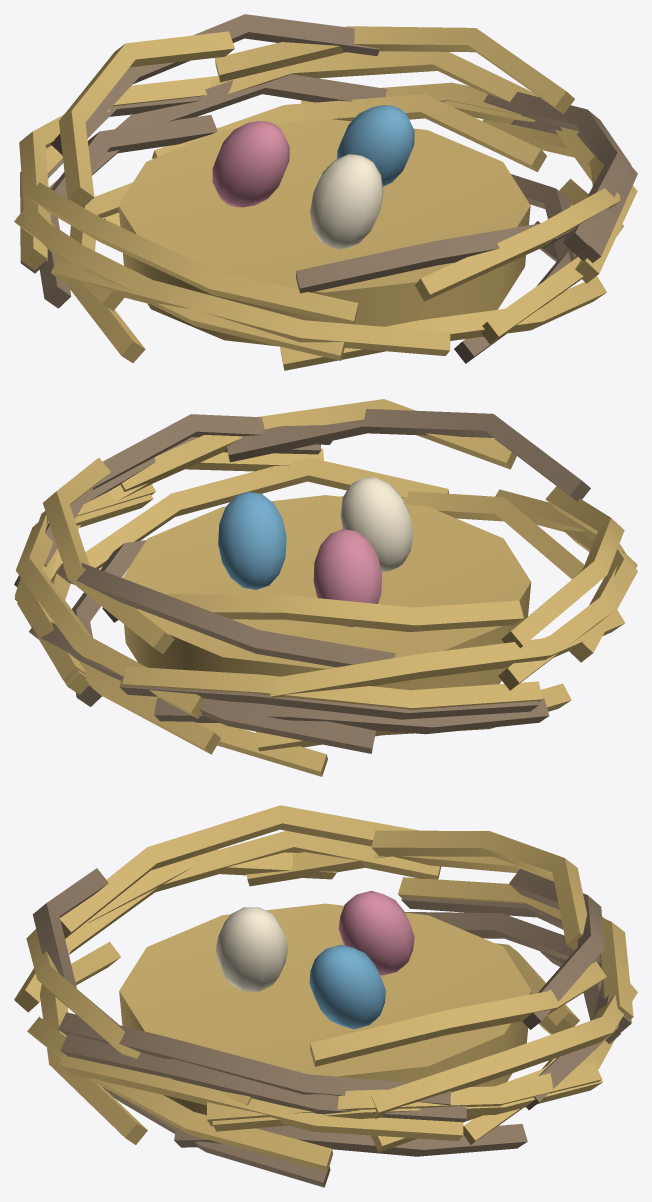
The model's file is deco_critter_nest.fbx.
The picture shows the model from 3 angles, top to bottom: view 1: azimuth 30°, elevation 25°; view 2: azimuth 150°, elevation 25°; view 3: azimuth 270°, elevation 25°; orthographic projection.
Parts seen in each view (by area): view 1: CritterNest_Nest; view 2: CritterNest_Nest; view 3: CritterNest_Nest.
Part boxes in pixels (<box>): CritterNest_Nest: <box>14,14,637,370</box>; CritterNest_Nest: <box>14,399,637,776</box>; CritterNest_Nest: <box>14,805,637,1187</box>.
Bounding box in the file's own units: 83.14 × 27.4 × 82.76.
